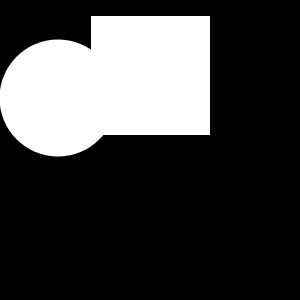circle: (91, 16, 210, 135)
rectangle: (0, 39, 116, 157)
